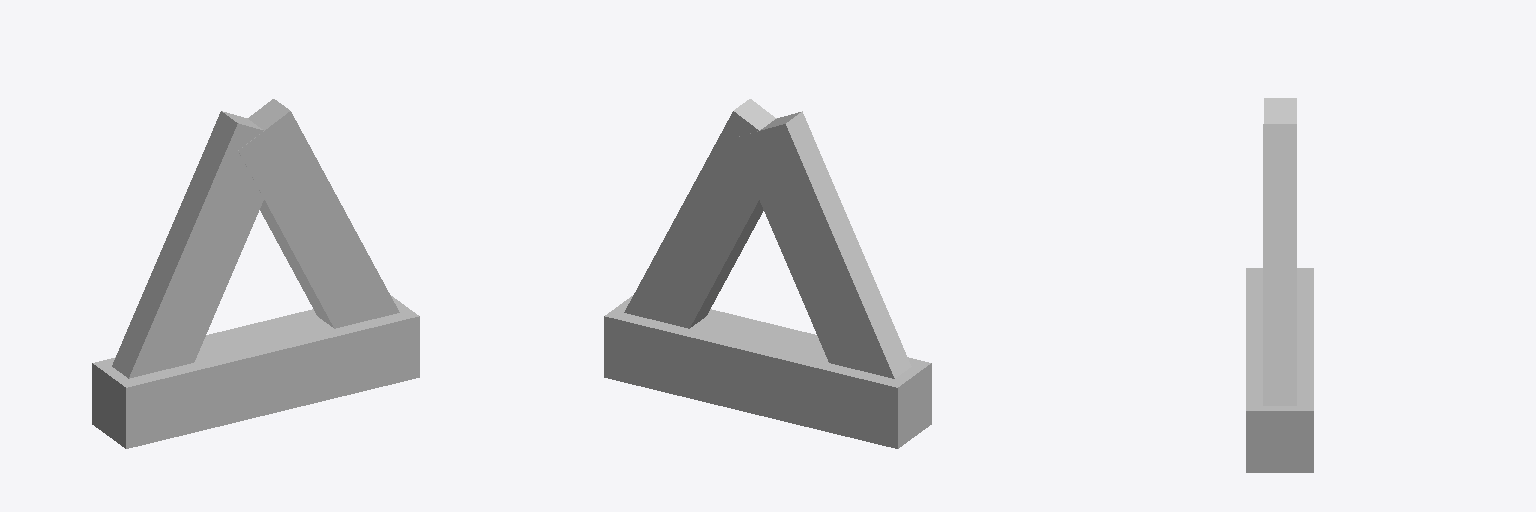
The model's file is beam_6.obj.
3 renders of one model, left to right at view 1: azimuth 30°, elevation 25°; view 2: azimuth 150°, elevation 25°; view 3: azimuth 270°, elevation 25°, orthographic.
Parts seen in each view (by area): view 1: beam_6_Cube.074; view 2: beam_6_Cube.074; view 3: beam_6_Cube.074.
Part boxes in pixels (bbox=[...]): beam_6_Cube.074: bbox=[92, 99, 419, 448]; beam_6_Cube.074: bbox=[604, 99, 931, 448]; beam_6_Cube.074: bbox=[1246, 98, 1313, 472].
Size of the model in its own units: 1.25 by 1.18 by 0.25.